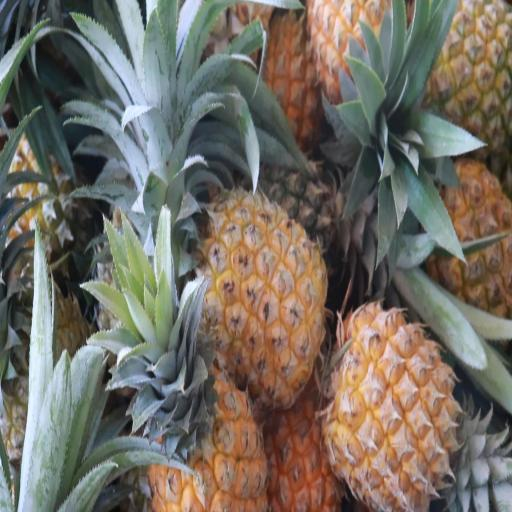Pineapple - v8 v1: (204, 191, 326, 400), (336, 306, 461, 508), (129, 334, 268, 512), (415, 156, 512, 319), (419, 0, 512, 142)
